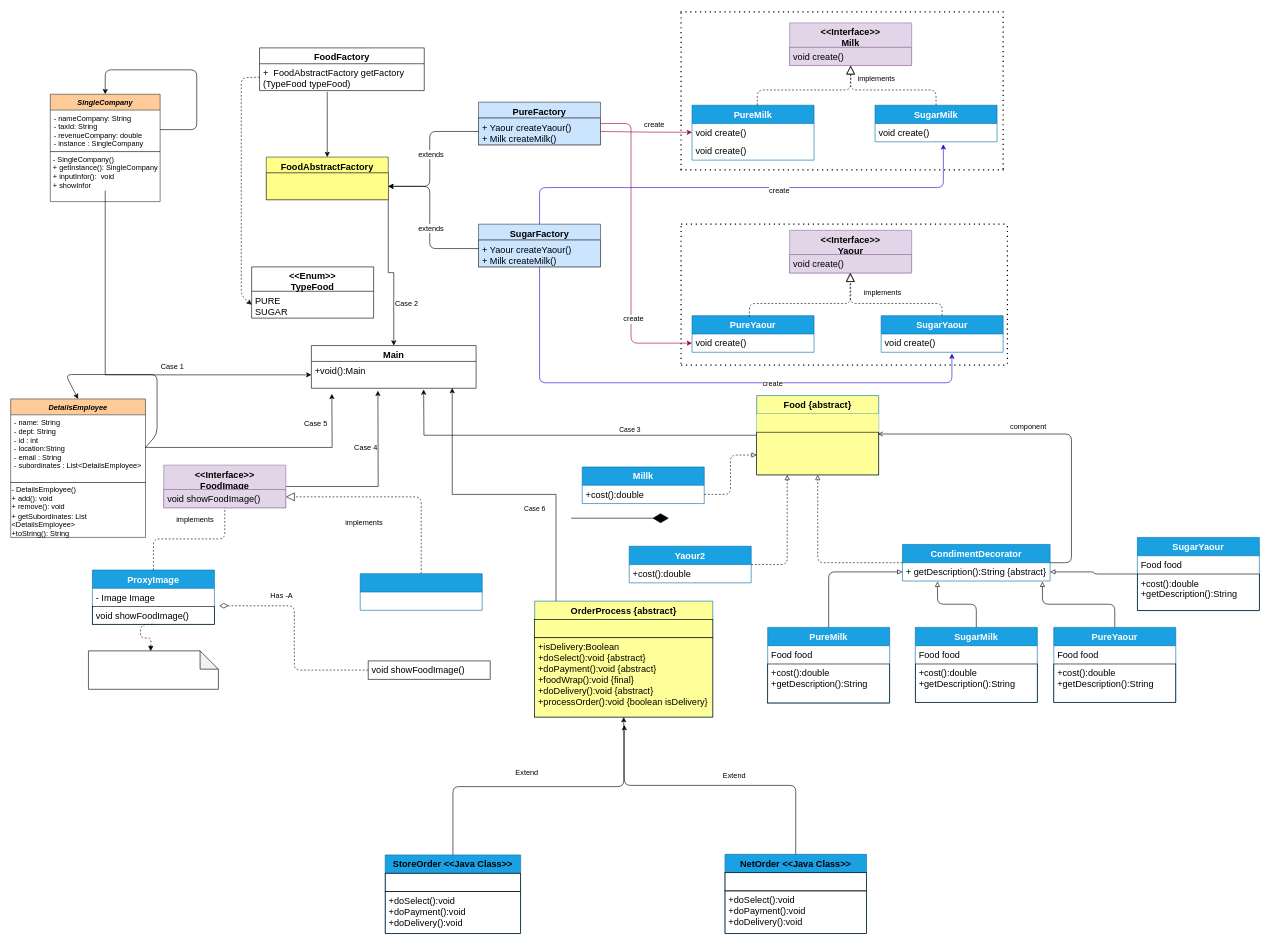
Image size: 1270x946. Some labels were removed from this diagram. Each missing label, with the centre of its shape:
+ abstract Yaour createYaour () + abstract Milk createMilk (): [327,186]
+getDescription:String +cost():double {abstract}: [817,453]
description:String: [817,423]
Image: [421,591]
Image.showFoodImage(): [153,669]
